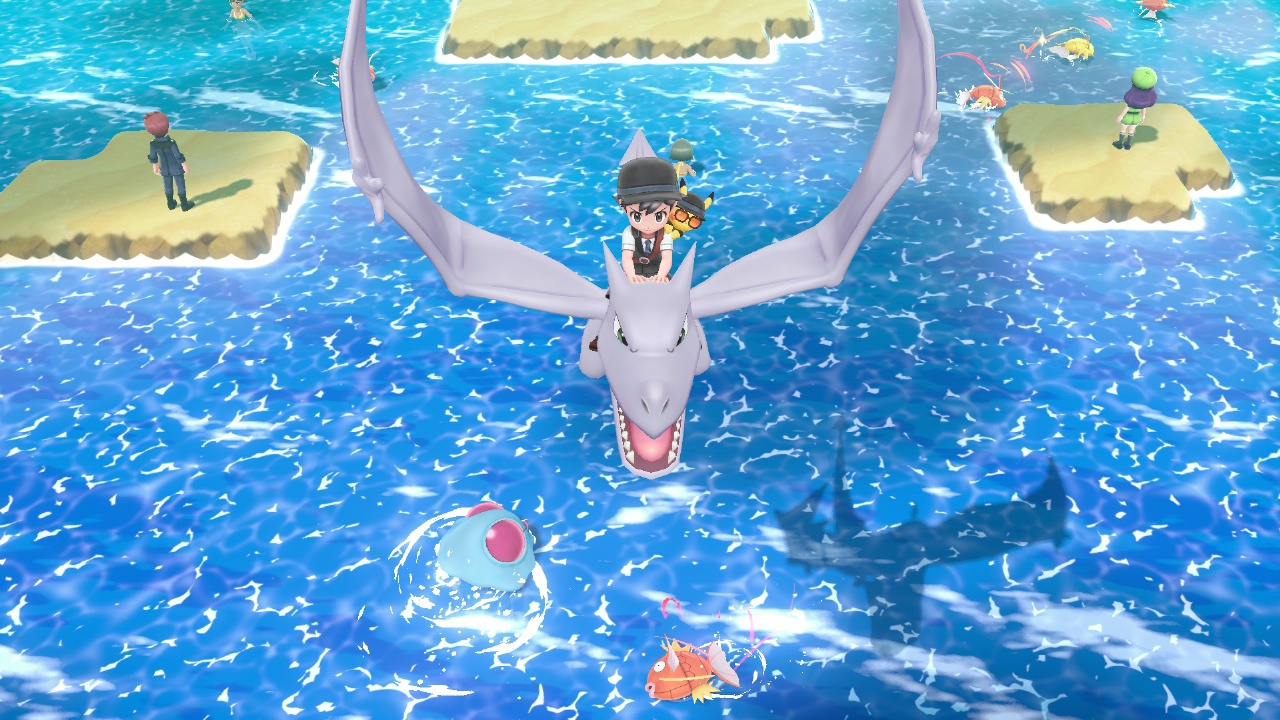Golden: (1048, 37, 1096, 64)
